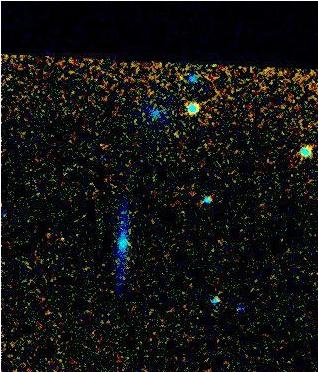star: (161, 119, 191, 149)
